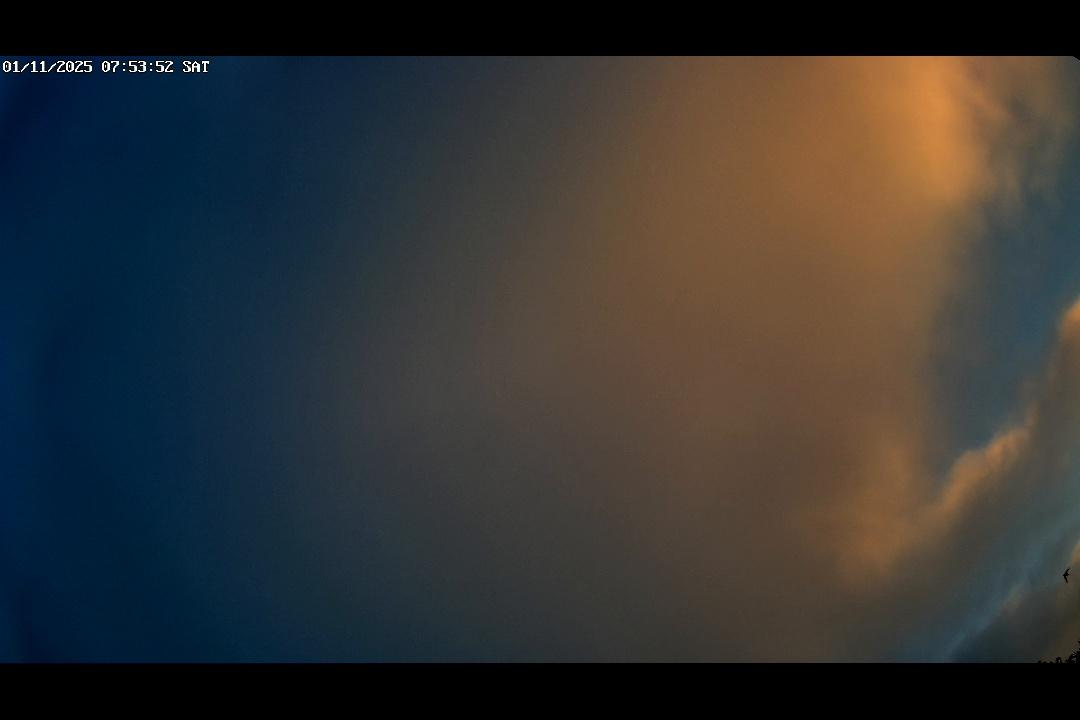WildLife: (1052, 563, 1077, 586)
